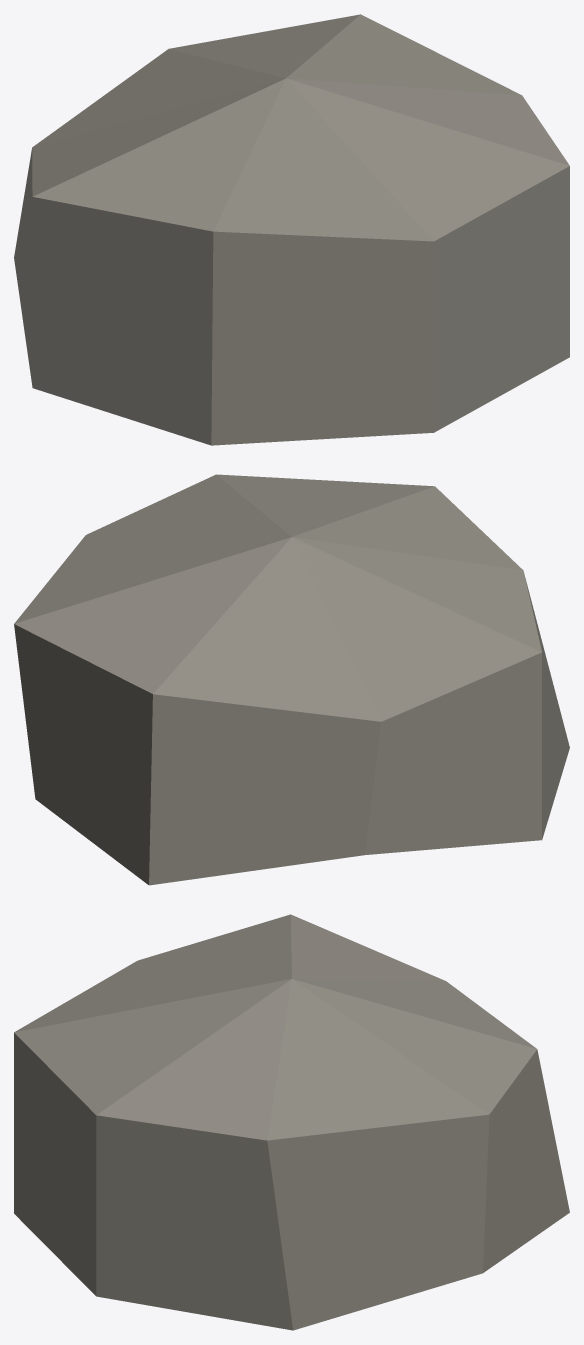
Rendered from Rock_18.fbx.
3 views of the same model, one above another, from view 1: azimuth 30°, elevation 25°; view 2: azimuth 150°, elevation 25°; view 3: azimuth 270°, elevation 25° (orthographic). The views are drawn at different scales.
Visible parts, largest first — view 1: Rock_18; view 2: Rock_18; view 3: Rock_18.
Boxes of the visible parts, <box> form: Rock_18: <box>14,14,569,445</box>; Rock_18: <box>14,474,569,885</box>; Rock_18: <box>14,914,569,1330</box>.
Size of the model in its own units: 57.52 by 30.34 by 57.52.
